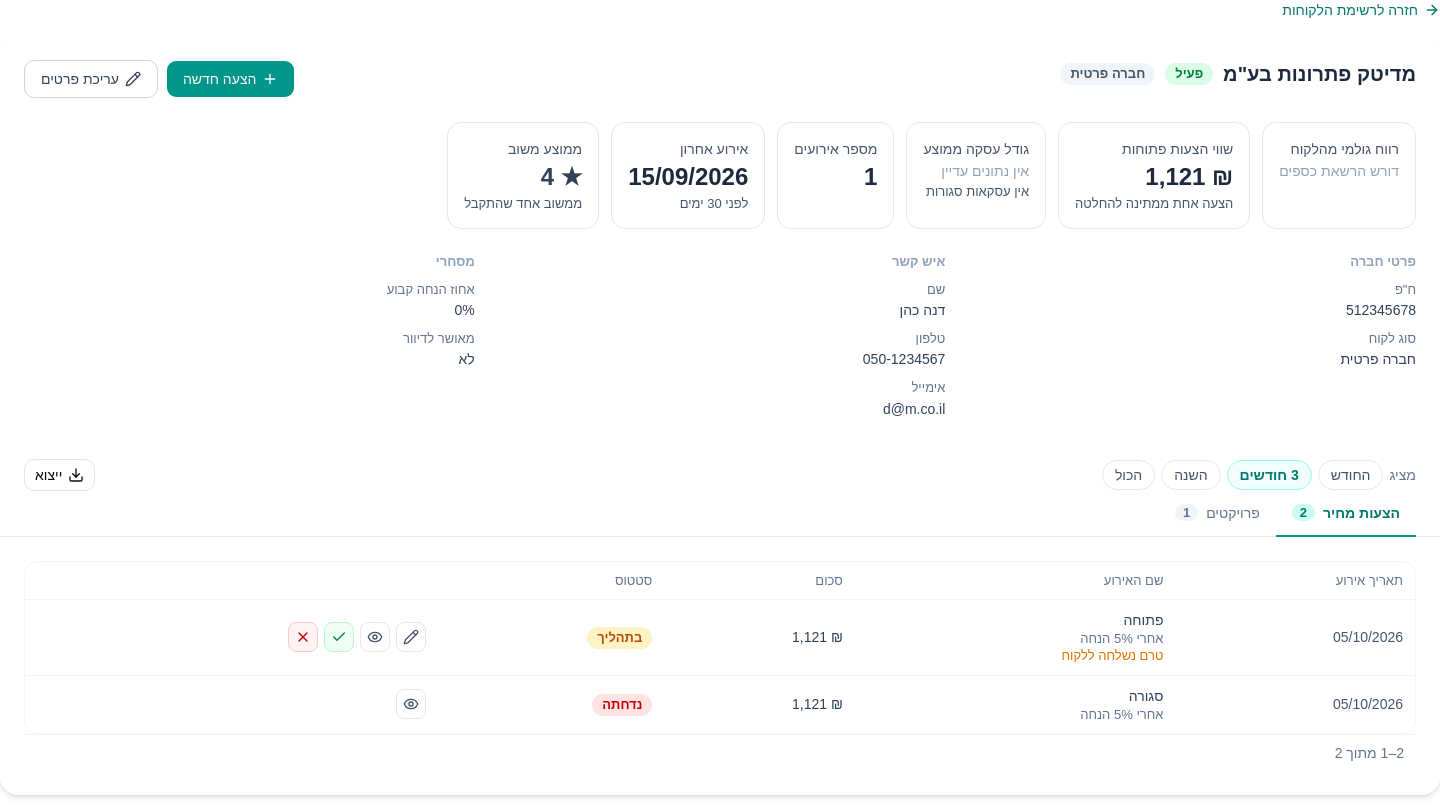
CustomerDetailsPage — חיבור לחלון-הייצוא › "נשלחה ללקוח" מחקה את המסך: "לא" רק על הצעה פתוחה, ריק על סגורה שלא נשלחה
This screenshot has width=1440, height=810.
Click the button with test id "customer-export-button" at (60, 475), box [24,459,95,491]
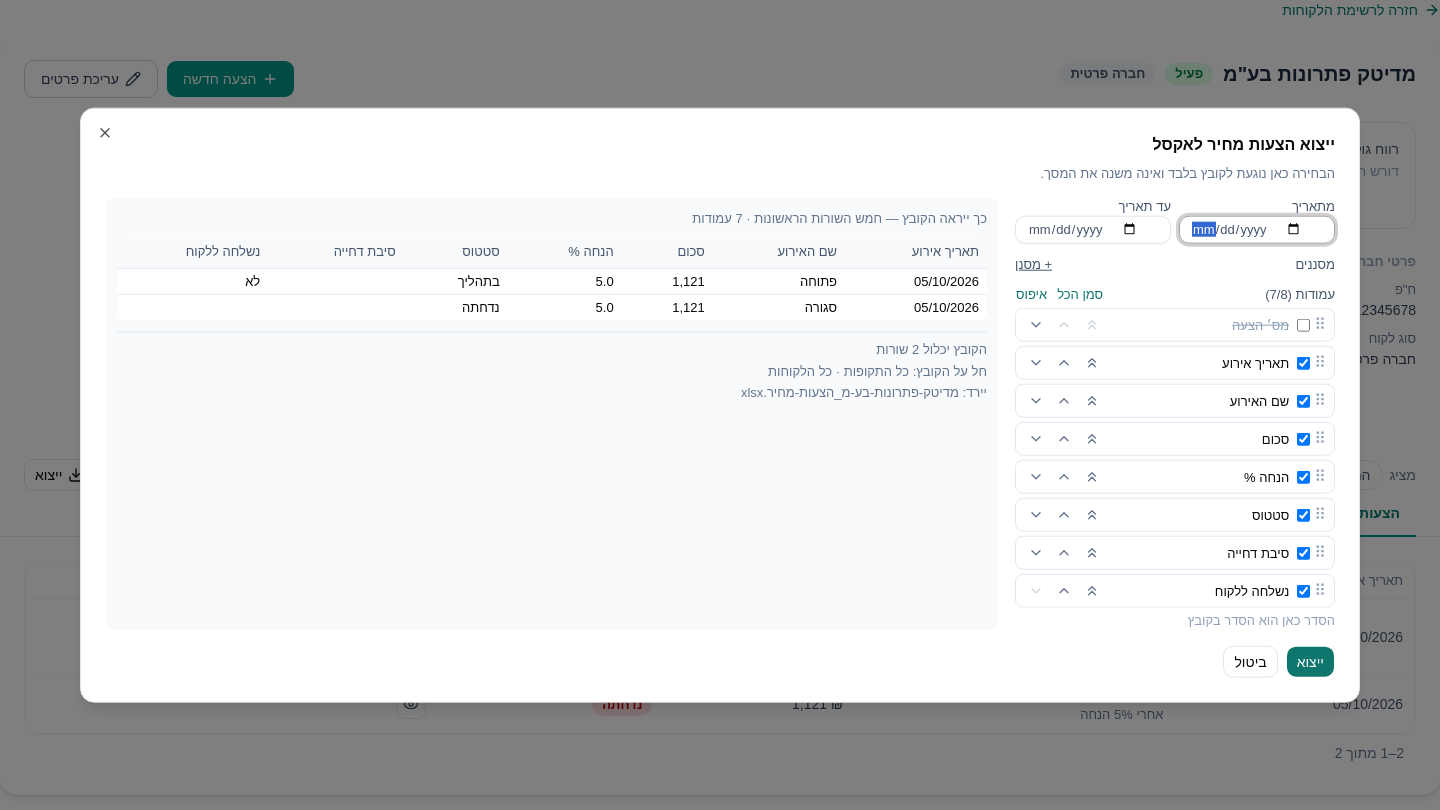
Check: the text "פתוחה" is shown, box [800,273,837,288]
Check: the cell "לא" is shown, box [117,268,268,294]
